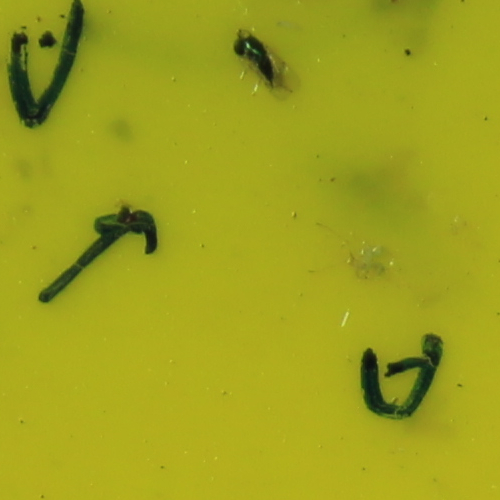Psyllaephagus: (237, 31, 278, 89)
